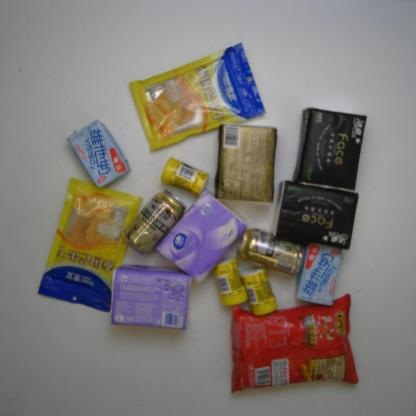Alcohol: (122, 186, 188, 257), (235, 225, 307, 278)
Dried Fruit: (126, 40, 268, 154), (34, 174, 146, 315)
Gum: (158, 154, 212, 200), (208, 255, 251, 309), (238, 266, 279, 318)
Milk: (63, 116, 134, 191), (294, 238, 345, 309)
Puffed Food: (226, 290, 364, 398)
Tissue: (153, 188, 250, 286), (290, 104, 370, 196), (268, 178, 362, 254), (106, 260, 194, 334), (212, 121, 280, 206)
